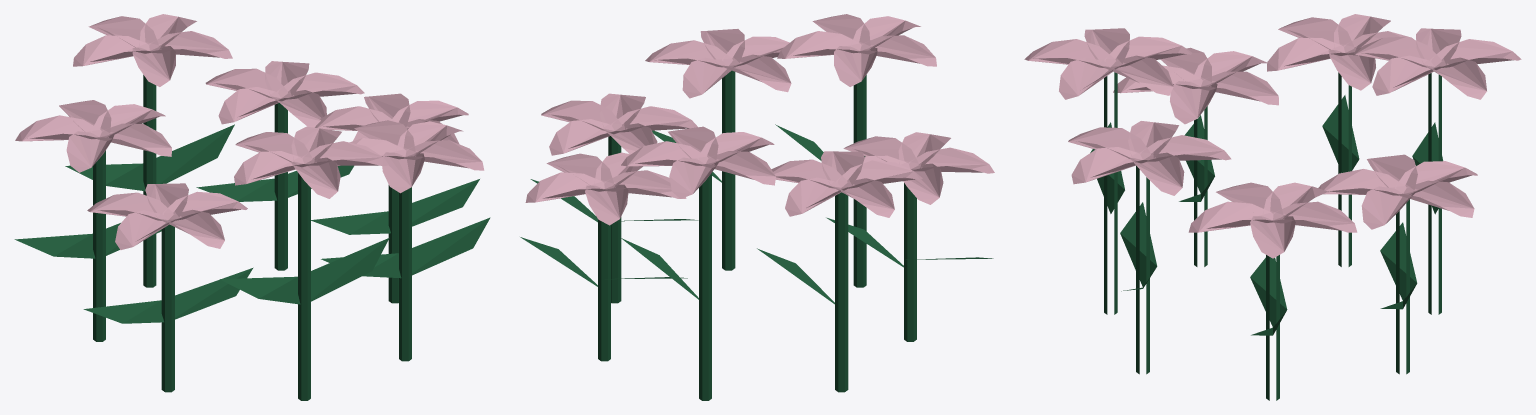
The model's file is flowers.glb.
3 views of the same model, side by side, from view 1: azimuth 30°, elevation 25°; view 2: azimuth 150°, elevation 25°; view 3: azimuth 270°, elevation 25° (orthographic). The views are drawn at different scales.
Size of the model in its own units: 1.09 by 0.6013 by 1.04.
